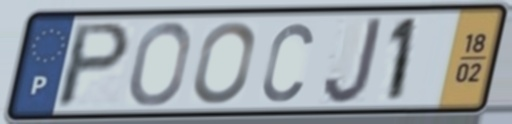1: (384, 14, 422, 105)
C: (258, 19, 316, 104)
J: (321, 14, 386, 107)
O: (126, 19, 194, 109), (190, 19, 258, 107)
P: (51, 19, 136, 112)
